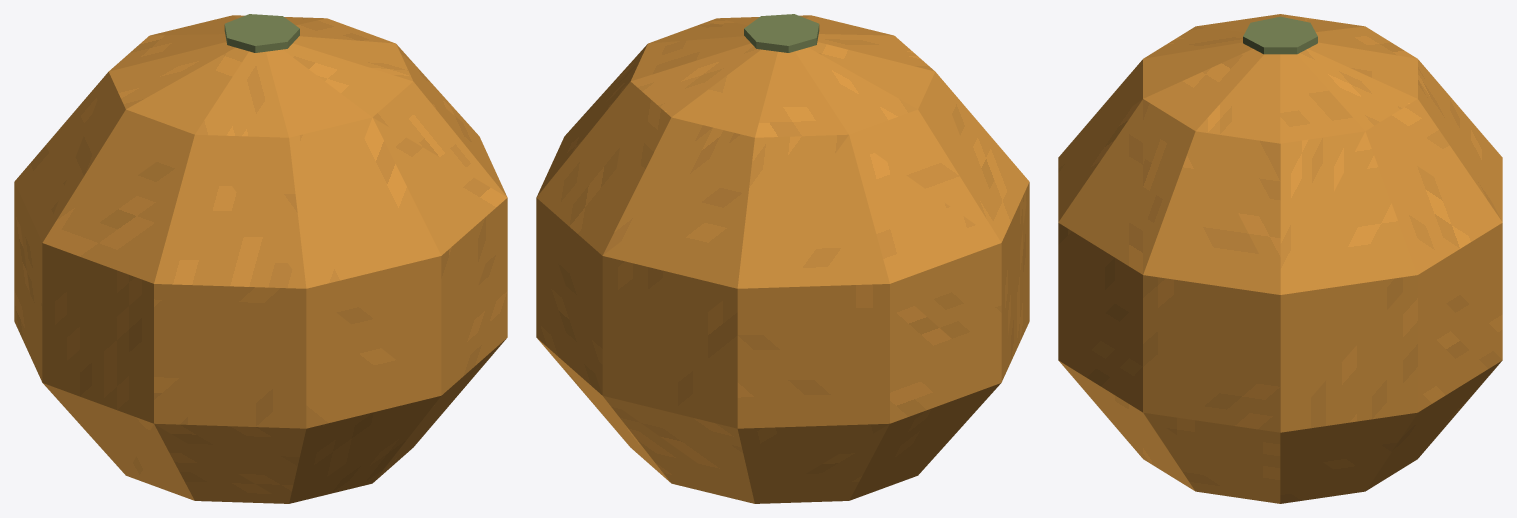
Rendered from orange.glb.
3 views of the same model, side by side, from view 1: azimuth 30°, elevation 25°; view 2: azimuth 150°, elevation 25°; view 3: azimuth 270°, elevation 25° (orthographic).
Parts seen in each view (by area): view 1: block_main fruit or shell, block_stem scar; view 2: block_main fruit or shell, block_stem scar; view 3: block_main fruit or shell, block_stem scar.
Boxes of the visible parts, box(x1,y1,x2,y2) form: block_main fruit or shell: box(14, 15, 507, 503); block_stem scar: box(224, 14, 299, 52); block_main fruit or shell: box(536, 15, 1029, 503); block_stem scar: box(744, 14, 819, 52); block_main fruit or shell: box(1058, 14, 1502, 503); block_stem scar: box(1243, 16, 1317, 54).
Bounding box in the file's own units: 0.0647 × 0.0645 × 0.0579.
Materials: 1 (1 with a texture image).
